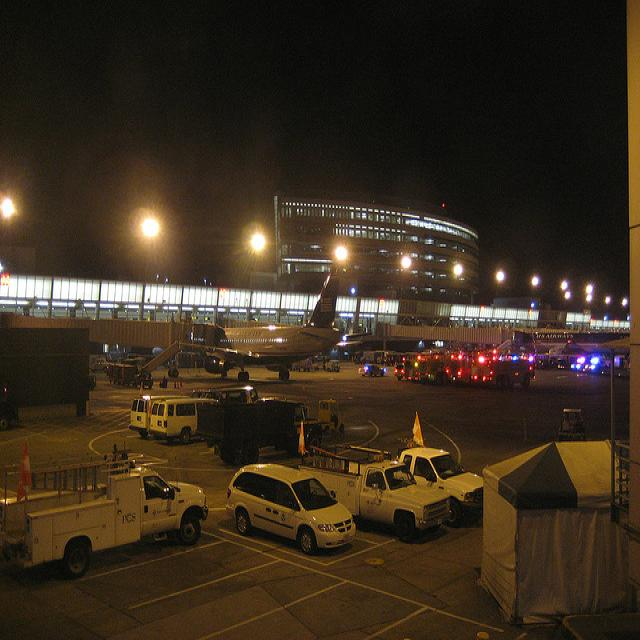Car: (181, 437, 377, 596), (133, 366, 221, 451)
